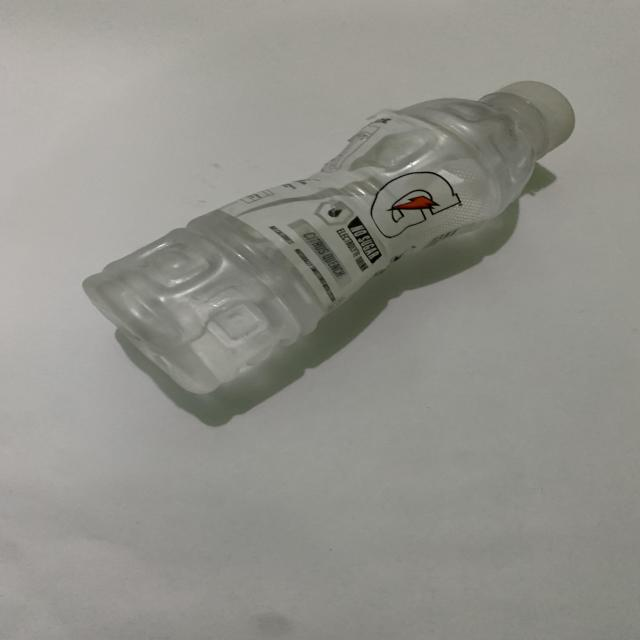bottle: (78, 87, 584, 396)
